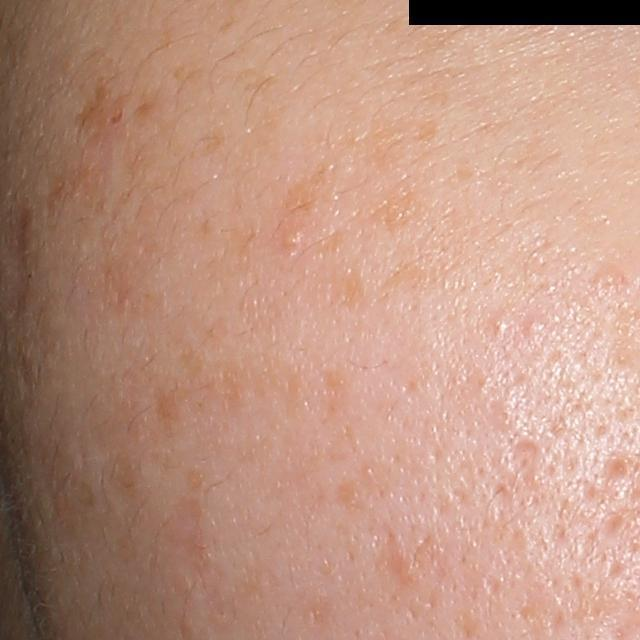atrophic_scar: (500, 431, 543, 485)
comedo: (490, 316, 512, 336)
melasma: (346, 108, 442, 173), (375, 249, 453, 301), (74, 72, 134, 137), (281, 149, 333, 220), (383, 176, 426, 234), (337, 260, 373, 317), (195, 122, 231, 159), (132, 90, 167, 126)
